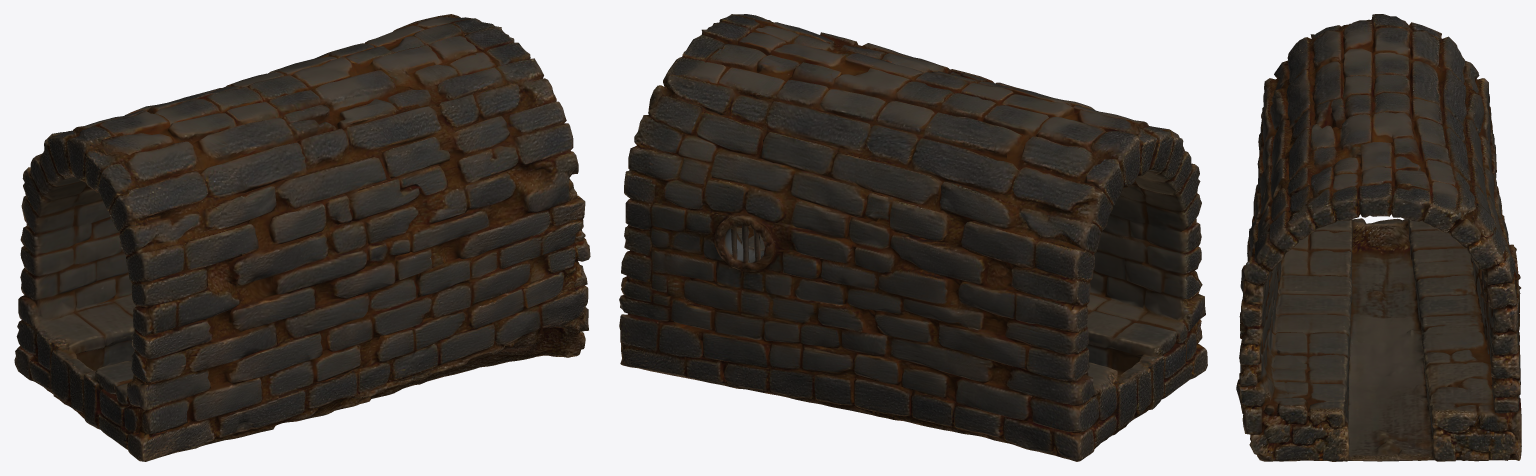
File: raw_tunnel.glb
3 views of the same model, side by side, from view 1: azimuth 30°, elevation 25°; view 2: azimuth 150°, elevation 25°; view 3: azimuth 270°, elevation 25° (orthographic). The views are drawn at different scales.
Parts seen in each view (by area): view 1: tripo_node_25831d7f-056a-4e7d-b3a6-27287e2eb656; view 2: tripo_node_25831d7f-056a-4e7d-b3a6-27287e2eb656; view 3: tripo_node_25831d7f-056a-4e7d-b3a6-27287e2eb656.
Boxes of the visible parts, left/top/right/bottom form: tripo_node_25831d7f-056a-4e7d-b3a6-27287e2eb656: left=14, top=14, right=590, bottom=461; tripo_node_25831d7f-056a-4e7d-b3a6-27287e2eb656: left=619, top=14, right=1207, bottom=461; tripo_node_25831d7f-056a-4e7d-b3a6-27287e2eb656: left=1236, top=14, right=1521, bottom=461.
Size of the model in its own units: 1 by 0.6023 by 0.6.
1 material, 1 textured.
